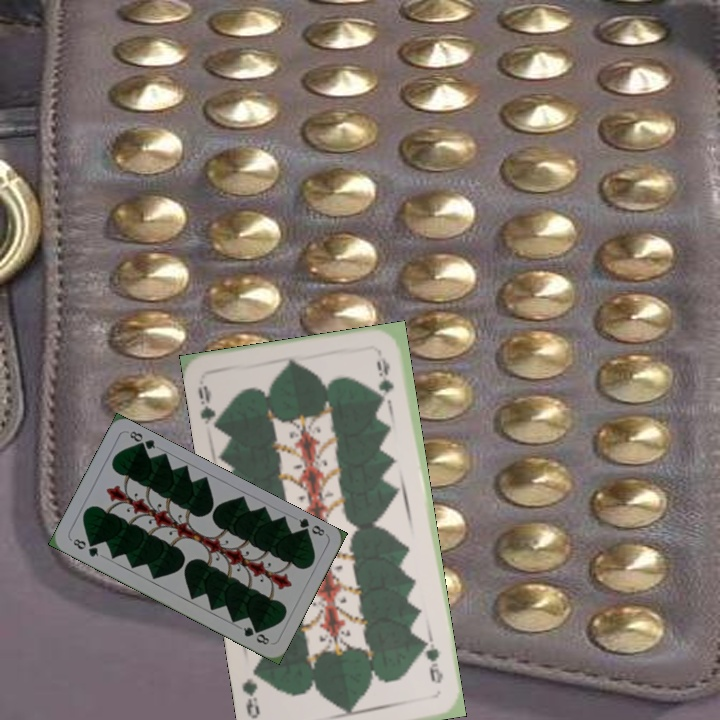G8: (293, 514, 327, 539), (69, 534, 101, 559)
G9: (193, 381, 225, 434), (419, 635, 446, 686)
